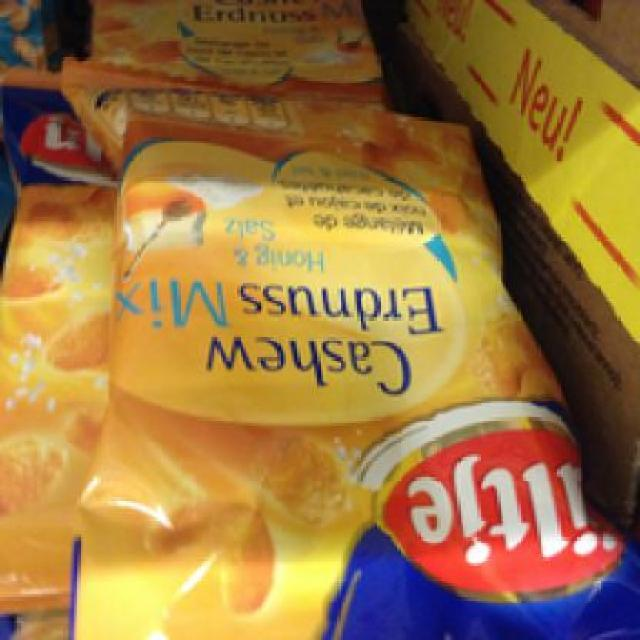Nuts: (60, 48, 637, 634)
